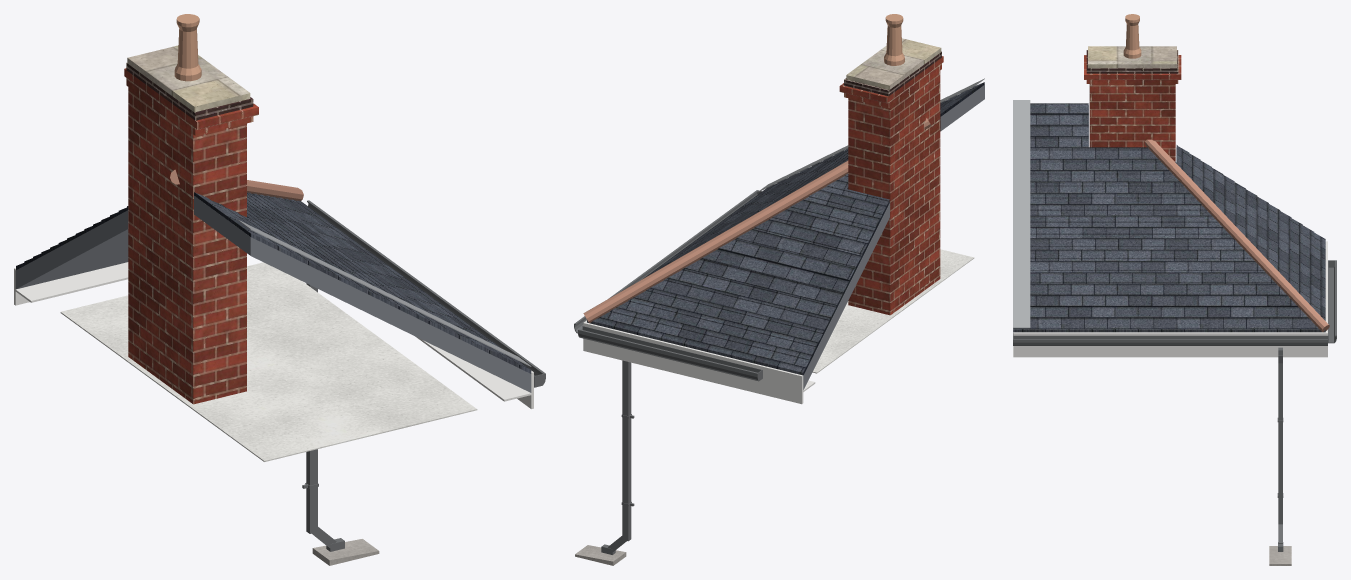
Rendered from out_roof_r.glb.
3 renders of one model, left to right at view 1: azimuth 30°, elevation 25°; view 2: azimuth 150°, elevation 25°; view 3: azimuth 270°, elevation 25°, orthographic. The views are drawn at different scales.
Parts seen in each view (by area): view 1: out_roof_r_brick, out_roof_r_ceil, out_roof_r_slate_c, out_roof_r_shingles, out_roof_r_stone_c, out_roof_r_trim, out_roof_r_gutter, out_roof_r_clay, out_roof_r_lead, out_roof_r_brick_d, out_roof_r_concrete, out_roof_r_ridge_c; view 2: out_roof_r_shingles, out_roof_r_brick, out_roof_r_gutter, out_roof_r_trim, out_roof_r_ridge_c, out_roof_r_ceil, out_roof_r_stone_c, out_roof_r_slate_c, out_roof_r_clay, out_roof_r_brick_d, out_roof_r_concrete; view 3: out_roof_r_shingles, out_roof_r_brick, out_roof_r_gutter, out_roof_r_trim, out_roof_r_lead, out_roof_r_ridge_c, out_roof_r_stone_c, out_roof_r_clay, out_roof_r_brick_d, out_roof_r_concrete.
Boxes of the visible parts, box(x1,y1,x2,y2) form: out_roof_r_brick: box(124, 68, 258, 404); out_roof_r_ceil: box(60, 262, 477, 461); out_roof_r_slate_c: box(15, 196, 531, 392); out_roof_r_shingles: box(16, 192, 531, 373); out_roof_r_stone_c: box(127, 45, 250, 112); out_roof_r_trim: box(14, 262, 533, 409); out_roof_r_gutter: box(302, 200, 545, 551); out_roof_r_clay: box(174, 14, 201, 81); out_roof_r_lead: box(237, 220, 531, 366); out_roof_r_brick_d: box(126, 62, 253, 120); out_roof_r_concrete: box(312, 539, 379, 565); out_roof_r_ridge_c: box(170, 169, 303, 200); out_roof_r_shingles: box(587, 82, 984, 375); out_roof_r_brick: box(839, 56, 943, 315); out_roof_r_gutter: box(574, 190, 762, 554); out_roof_r_trim: box(583, 320, 815, 404); out_roof_r_ridge_c: box(583, 118, 931, 323); out_roof_r_ceil: box(812, 249, 974, 373); out_roof_r_stone_c: box(846, 38, 941, 89); out_roof_r_slate_c: box(803, 85, 984, 389); out_roof_r_clay: box(884, 14, 904, 65); out_roof_r_brick_d: box(844, 51, 941, 96); out_roof_r_concrete: box(575, 545, 626, 565); out_roof_r_shingles: box(1013, 103, 1325, 332); out_roof_r_brick: box(1084, 55, 1181, 161); out_roof_r_gutter: box(1013, 260, 1336, 551); out_roof_r_trim: box(1013, 241, 1327, 357); out_roof_r_lead: box(1013, 100, 1030, 328); out_roof_r_ridge_c: box(1145, 139, 1329, 332); out_roof_r_stone_c: box(1088, 46, 1176, 68); out_roof_r_clay: box(1123, 14, 1141, 58); out_roof_r_brick_d: box(1086, 50, 1178, 73); out_roof_r_concrete: box(1269, 546, 1291, 565).
Size of the model in its own units: 3.61 by 7.2 by 4.66.
Materials: 12 (6 with a texture image).
